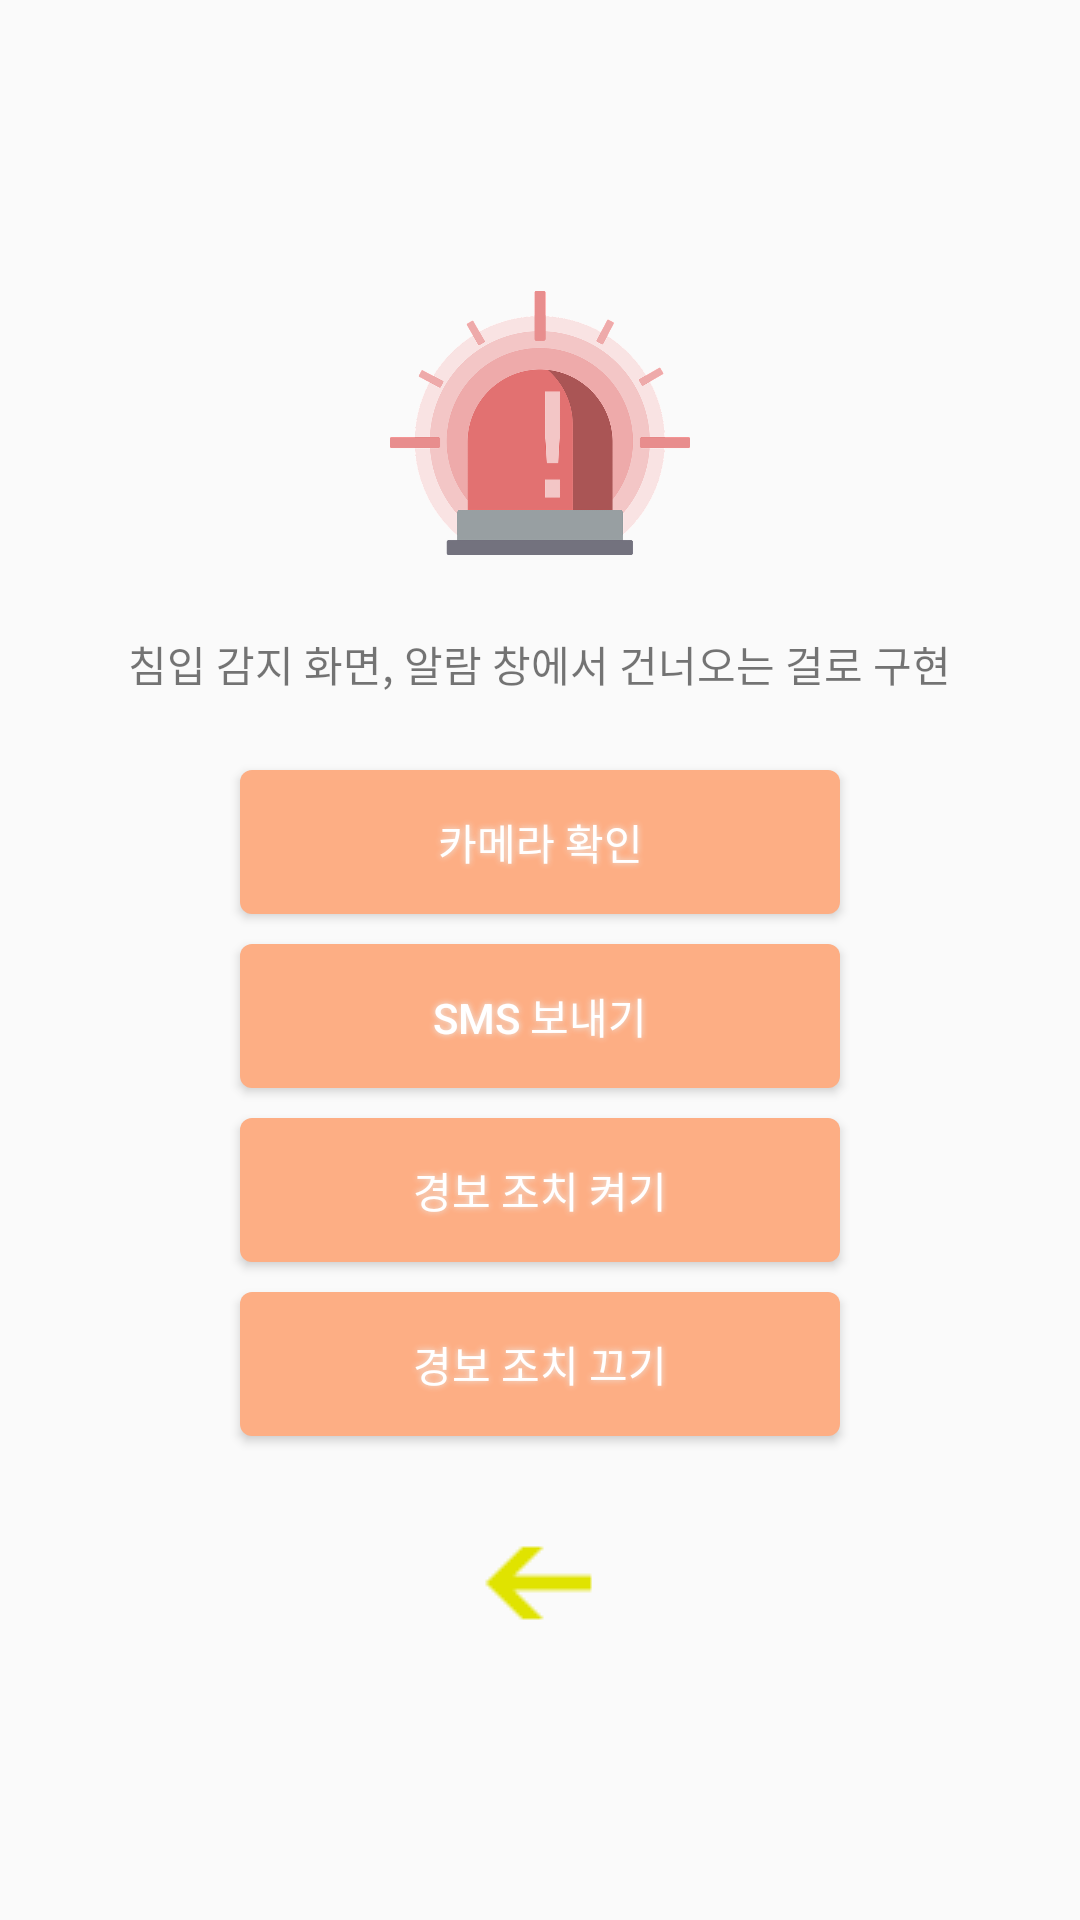

Point at icon controls on the screen. Image size 1080px x 1920px, points as point (x, y).
back: point (538, 1583)
siren: point (540, 423)
